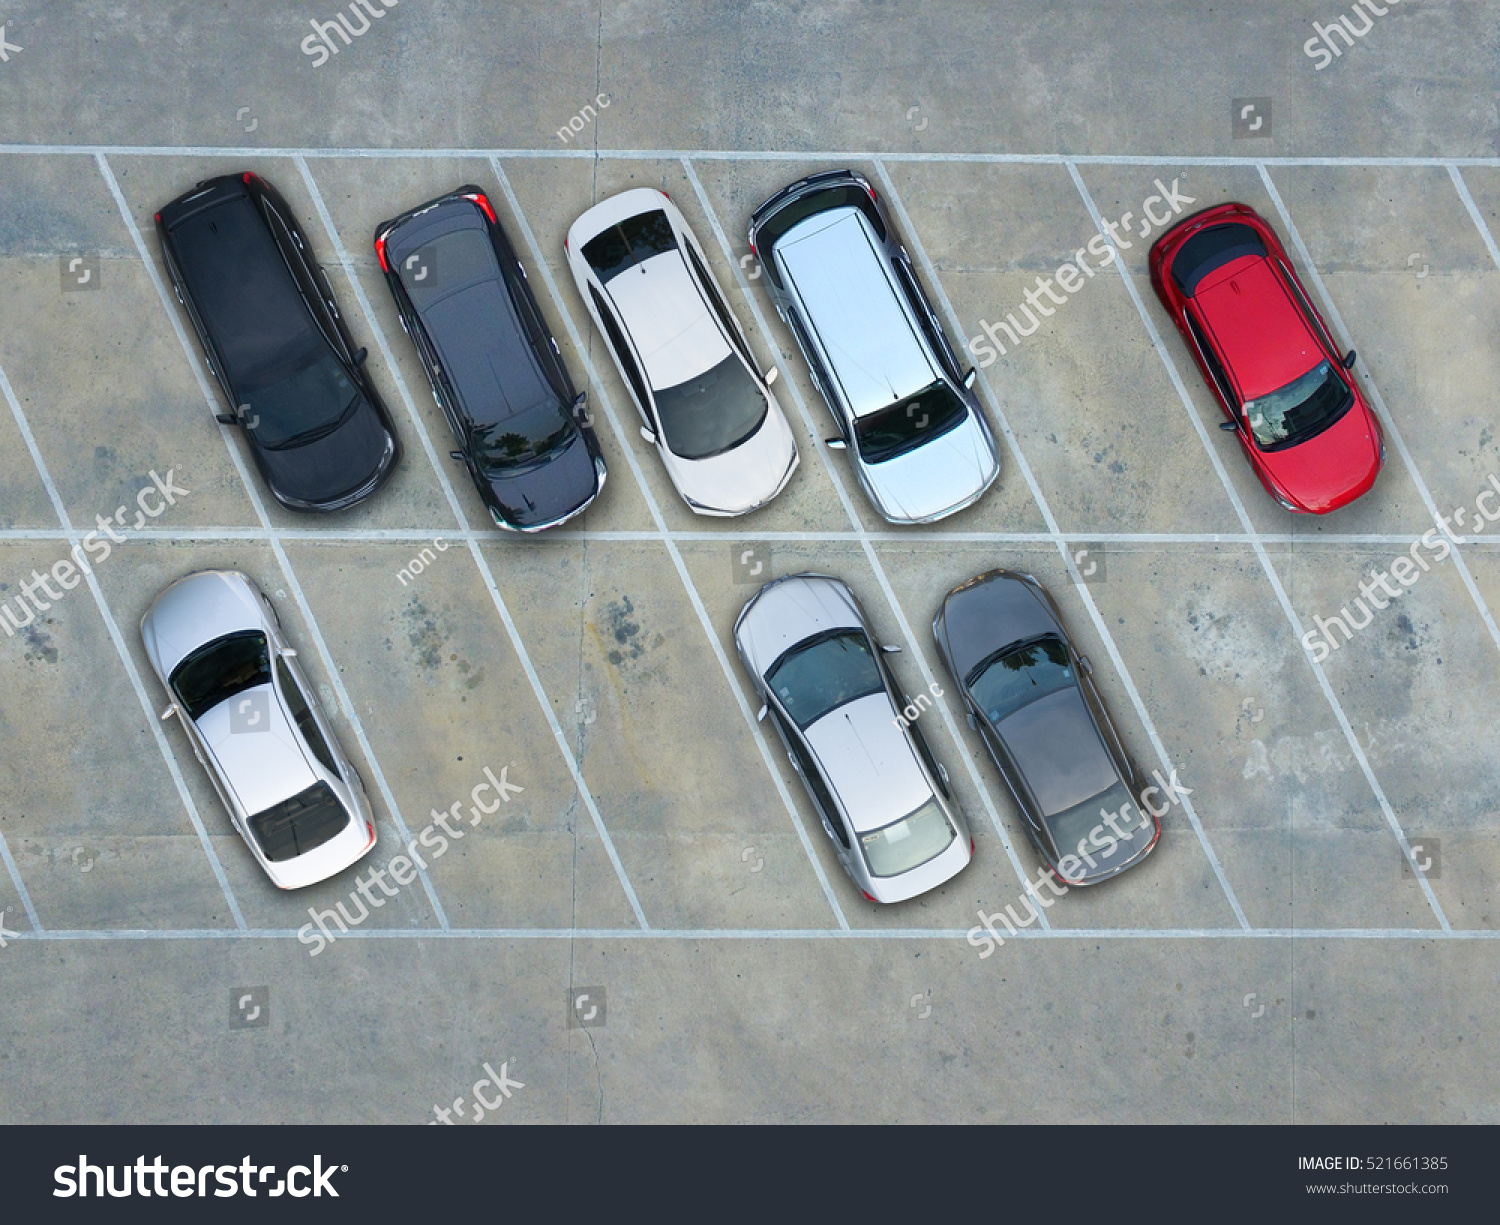Car: (741, 163, 1017, 533), (1131, 191, 1398, 533), (548, 183, 809, 533), (724, 570, 978, 908), (125, 565, 380, 896)
LaneMark: (1, 140, 1500, 173), (4, 528, 1500, 546), (544, 704, 652, 937), (4, 928, 1500, 941), (1256, 546, 1348, 709), (1169, 763, 1252, 938), (4, 385, 78, 537), (206, 400, 272, 532), (1324, 712, 1400, 824), (1063, 174, 1135, 285), (1066, 552, 1135, 667), (761, 761, 820, 887), (491, 594, 554, 707), (1000, 424, 1059, 537), (667, 546, 726, 652), (70, 550, 125, 663), (193, 824, 248, 933), (1127, 282, 1184, 389), (1441, 545, 1500, 636), (723, 659, 770, 765), (1397, 822, 1448, 920), (91, 158, 146, 248), (1446, 176, 1500, 262), (1124, 669, 1174, 761), (164, 313, 211, 406), (1180, 391, 1226, 484), (154, 741, 202, 830), (802, 859, 852, 930), (122, 660, 157, 751), (883, 163, 926, 228), (913, 231, 956, 295), (937, 295, 980, 354), (467, 555, 498, 631), (141, 250, 169, 327), (1220, 484, 1260, 537), (974, 358, 1007, 420)
